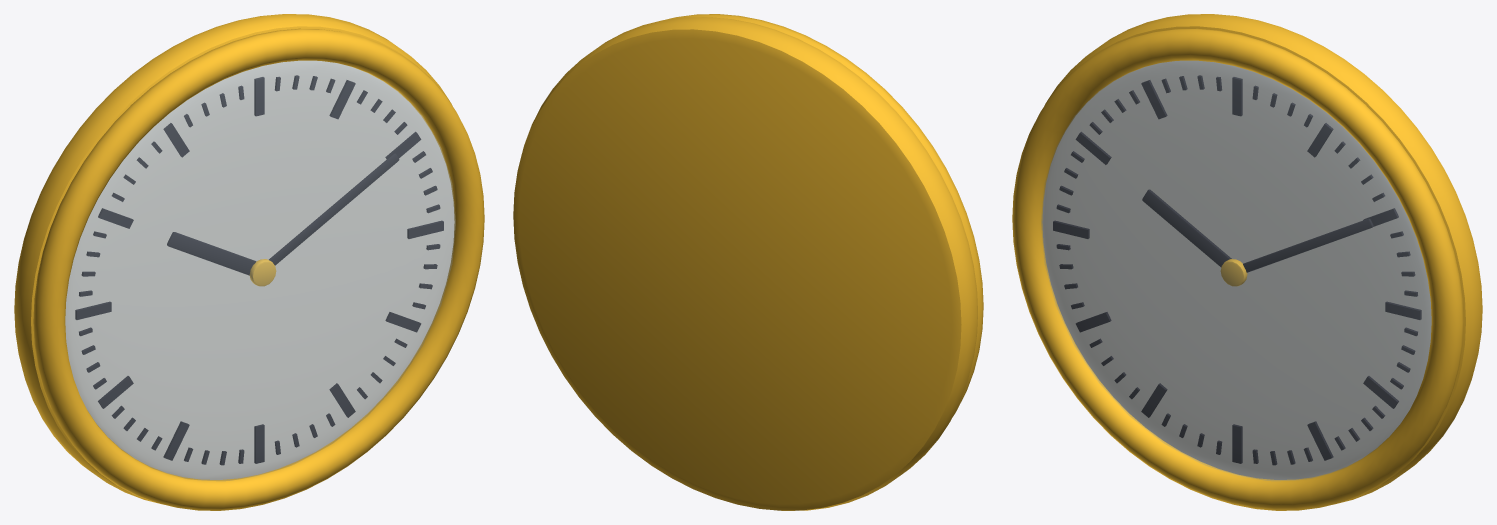
File: PropWallClock.fbx
The picture shows the model from 3 angles, left to right: view 1: azimuth 30°, elevation 25°; view 2: azimuth 150°, elevation 25°; view 3: azimuth 330°, elevation 25°; orthographic projection.
Parts seen in each view (by area): view 1: Glass, Face, Gold, Dark; view 2: Gold; view 3: Glass, Face, Gold, Dark.
Boxes of the visible parts, x1=… form: Glass: x1=65, y1=61, x2=455, y2=480; Face: x1=65, y1=60, x2=454, y2=479; Gold: x1=14, y1=14, x2=484, y2=510; Dark: x1=75, y1=75, x2=443, y2=465; Gold: x1=513, y1=14, x2=983, y2=510; Glass: x1=1041, y1=61, x2=1431, y2=480; Face: x1=1042, y1=60, x2=1431, y2=479; Gold: x1=1012, y1=14, x2=1482, y2=510; Dark: x1=1053, y1=75, x2=1421, y2=465.
Bounding box in the file's own units: 260 × 260 × 33.3.
